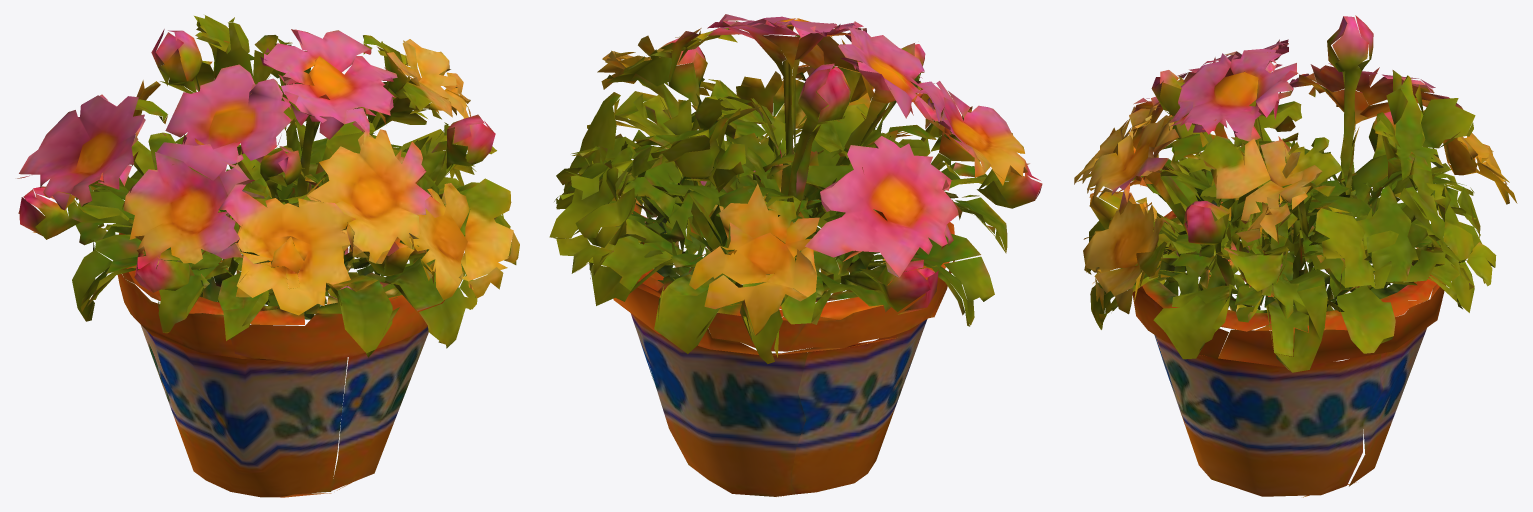
The model's file is flowerpot.glb.
3 renders of one model, left to right at view 1: azimuth 30°, elevation 25°; view 2: azimuth 150°, elevation 25°; view 3: azimuth 270°, elevation 25°, orthographic. The views are drawn at different scales.
Visible parts, largest first — view 1: textured_mesh.obj; view 2: textured_mesh.obj; view 3: textured_mesh.obj.
Part boxes in pixels (x1=…): textured_mesh.obj: x1=17, y1=15, x2=519, y2=497; textured_mesh.obj: x1=549, y1=14, x2=1042, y2=496; textured_mesh.obj: x1=1074, y1=15, x2=1517, y2=497.
Bounding box in the file's own units: 0.9858 × 1 × 0.9806.
1 material, 1 textured.
